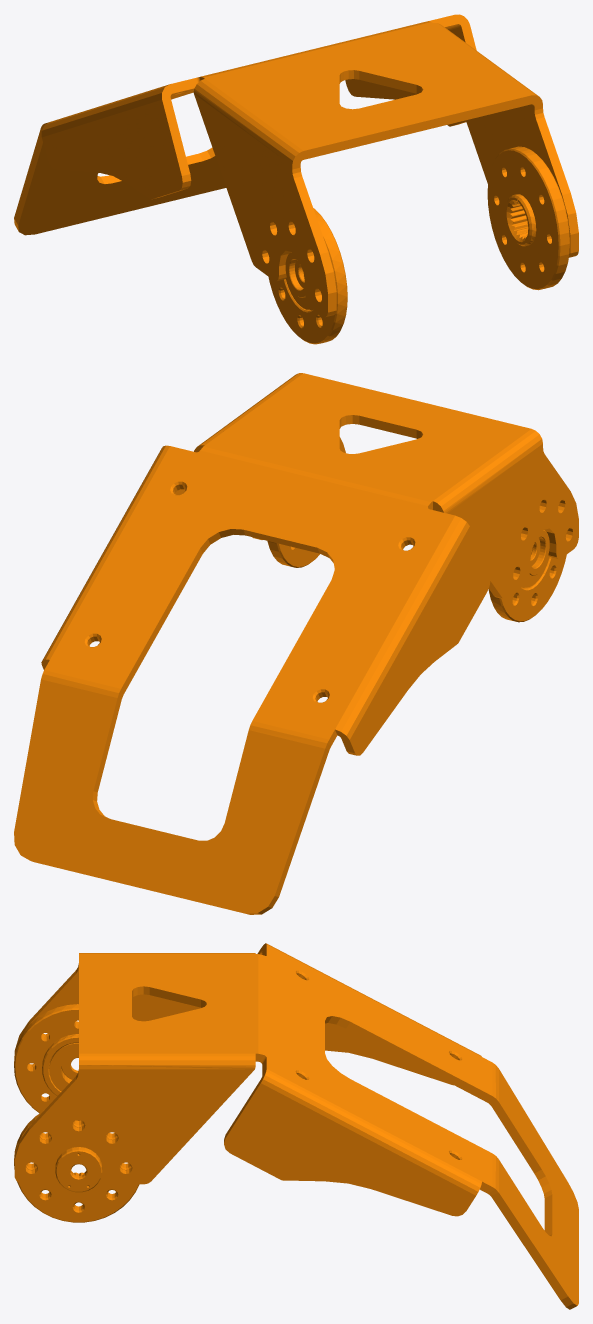
The model's file is larm_gripper_roll_link.dae.
3 renders of one model, top to bottom at view 1: azimuth 30°, elevation 25°; view 2: azimuth 150°, elevation 25°; view 3: azimuth 270°, elevation 25°, orthographic. The views are drawn at different scales.
Parts seen in each view (by area): view 1: skpe06d (×5); view 2: skpe06d (×4); view 3: skpe06d (×7).
Boxes of the visible parts, left/top/right/bottom form: skpe06d (×5): left=14, top=14, right=578, bottom=344; skpe06d (×4): left=14, top=373, right=578, bottom=914; skpe06d (×7): left=14, top=943, right=578, bottom=1309.
Bounding box in the file's own units: 2.13 × 3.77 × 1.89.
